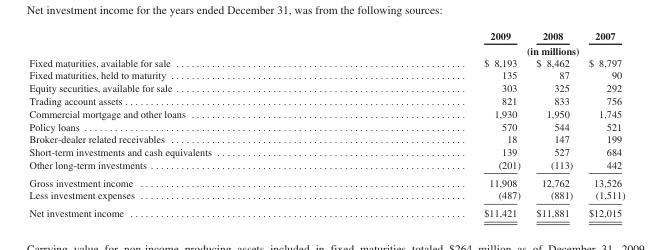table: (28, 29, 624, 218)
table column: (28, 29, 347, 218), (347, 29, 527, 218), (527, 29, 580, 218), (580, 29, 624, 218)
table column header: (28, 29, 624, 56)
table row: (28, 157, 624, 173), (28, 173, 624, 188), (28, 188, 624, 203), (28, 203, 624, 218), (28, 42, 624, 56), (28, 29, 624, 42), (28, 68, 624, 81), (28, 81, 624, 94), (28, 106, 624, 119), (28, 119, 624, 132), (28, 132, 624, 145), (28, 56, 624, 68), (28, 94, 624, 106), (28, 145, 624, 157)
table spanning cell: (347, 42, 624, 56)
